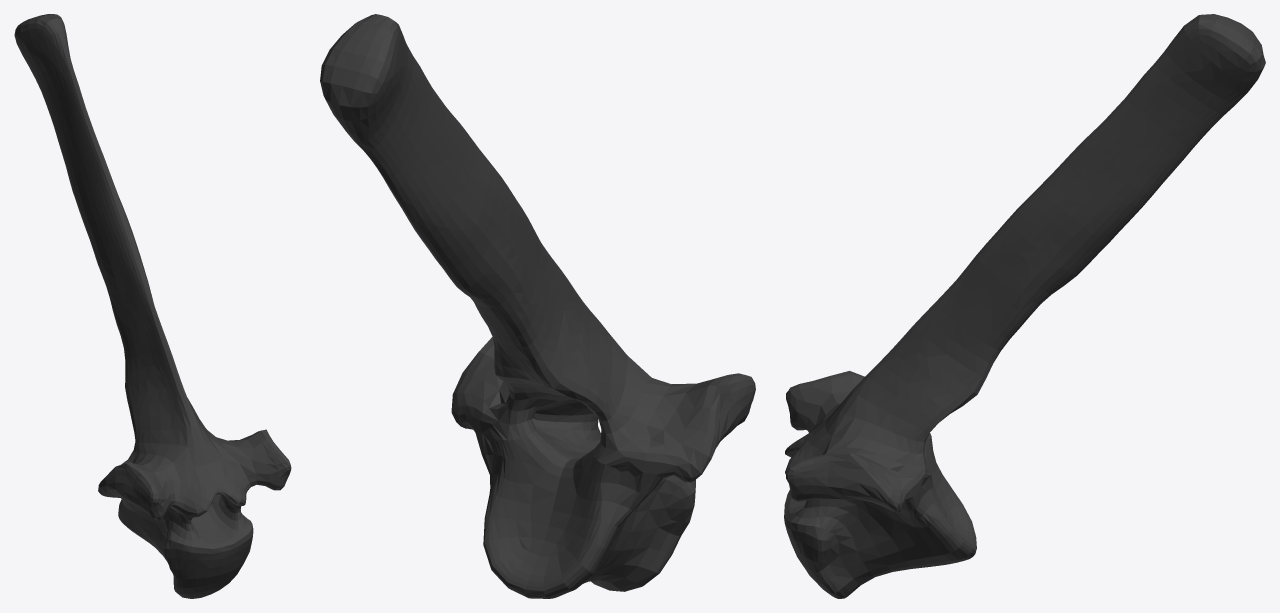
3 renders of one model, left to right at view 1: azimuth 30°, elevation 25°; view 2: azimuth 150°, elevation 25°; view 3: azimuth 270°, elevation 25°, orthographic. The views are drawn at different scales.
Parts seen in each view (by area): view 1: b_T5_LO; view 2: b_T5_LO; view 3: b_T5_LO.
Part boxes in pixels (<box>): b_T5_LO: <box>14,14,291,598</box>; b_T5_LO: <box>320,14,755,598</box>; b_T5_LO: <box>784,14,1265,598</box>.
Size of the model in its own units: 0.000897 by 0.00247 by 0.00187.
1 material, 1 textured.
